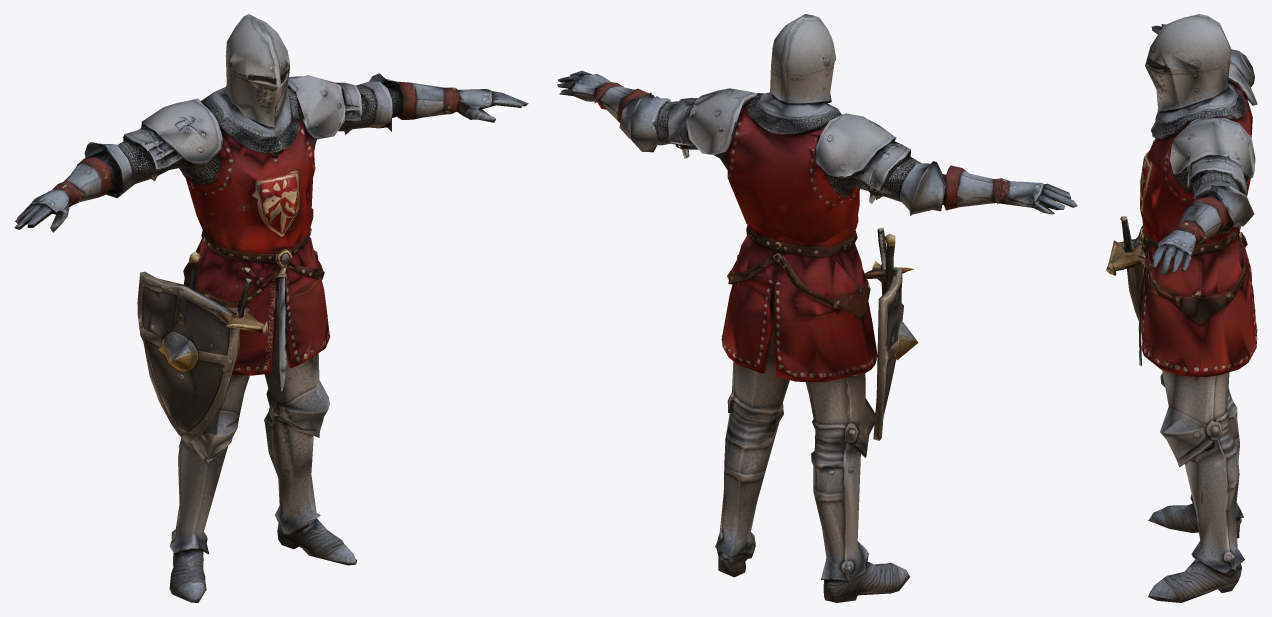
The model's file is knight.glb.
3 renders of one model, left to right at view 1: azimuth 30°, elevation 25°; view 2: azimuth 150°, elevation 25°; view 3: azimuth 270°, elevation 25°, orthographic.
Parts seen in each view (by area): view 1: tripo_node_86d0f0c8-a8fd-4a6a-ad78-5f9502b700b5; view 2: tripo_node_86d0f0c8-a8fd-4a6a-ad78-5f9502b700b5; view 3: tripo_node_86d0f0c8-a8fd-4a6a-ad78-5f9502b700b5.
Part boxes in pixels (x1,y1,x2,y2): tripo_node_86d0f0c8-a8fd-4a6a-ad78-5f9502b700b5: [14, 14, 528, 602]; tripo_node_86d0f0c8-a8fd-4a6a-ad78-5f9502b700b5: [557, 14, 1077, 602]; tripo_node_86d0f0c8-a8fd-4a6a-ad78-5f9502b700b5: [1106, 14, 1257, 602].
Bounding box in the file's own units: 0.9553 × 0.9798 × 0.2458.
Materials: 1 (1 with a texture image).
